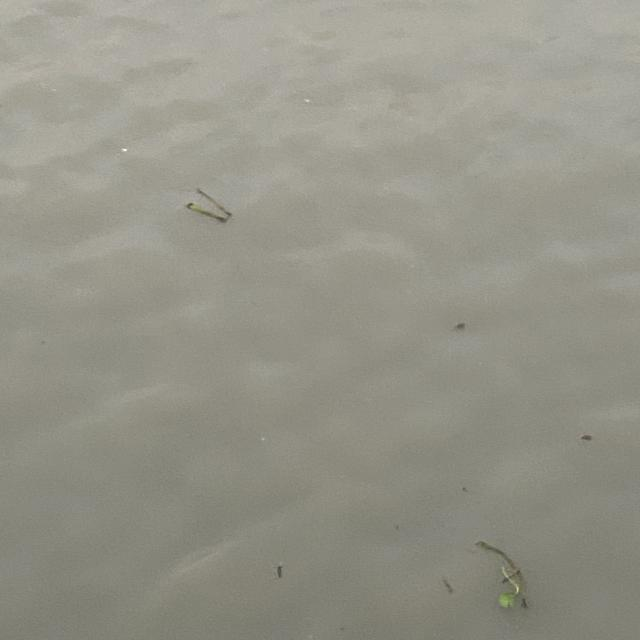Organic Debris: (464, 529, 552, 620), (170, 175, 243, 236), (450, 312, 475, 340), (436, 570, 461, 596), (571, 431, 596, 445), (275, 560, 290, 582)
Plastic: (116, 140, 136, 164), (298, 95, 316, 106)
